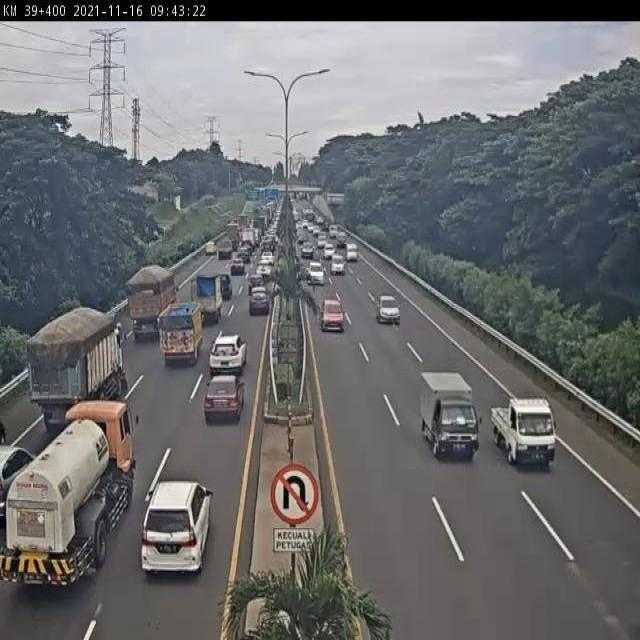car: (137, 461, 219, 588), (487, 385, 564, 475), (198, 368, 247, 428), (206, 330, 252, 386), (0, 436, 42, 497), (244, 282, 274, 322), (374, 287, 404, 327), (317, 298, 347, 334), (304, 255, 324, 283), (326, 248, 345, 277), (246, 267, 267, 293), (218, 270, 234, 302), (227, 253, 246, 279), (341, 236, 360, 261), (202, 236, 222, 257), (254, 261, 272, 283)
truck: (3, 393, 137, 615), (28, 301, 137, 432), (415, 366, 480, 474), (115, 264, 178, 339), (154, 299, 206, 376), (193, 268, 231, 324)
